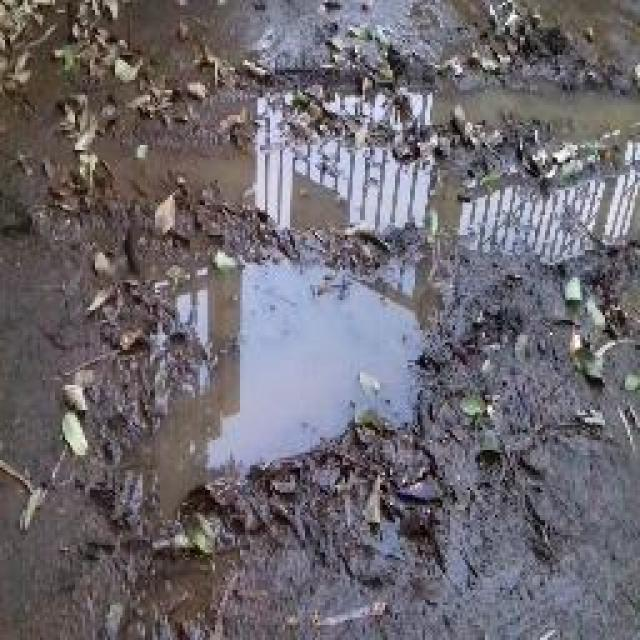puddle: (108, 75, 640, 259), (134, 251, 443, 526)
